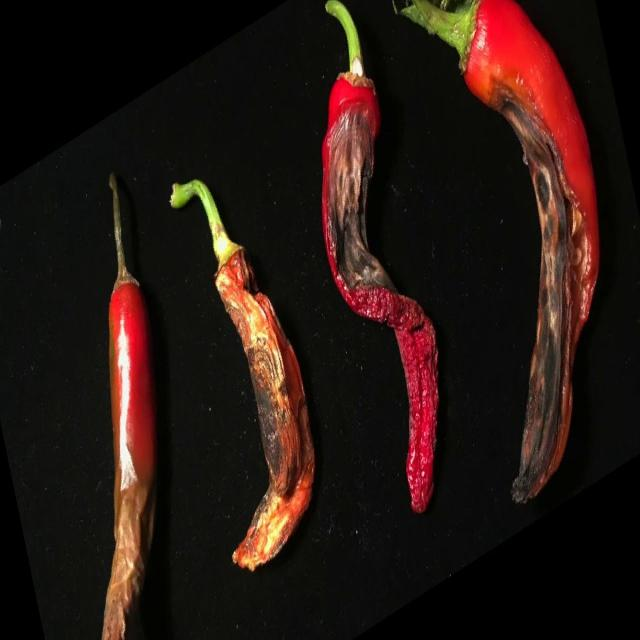Moko: (454, 0, 620, 512), (306, 29, 452, 520), (194, 164, 320, 589), (72, 234, 182, 640)
